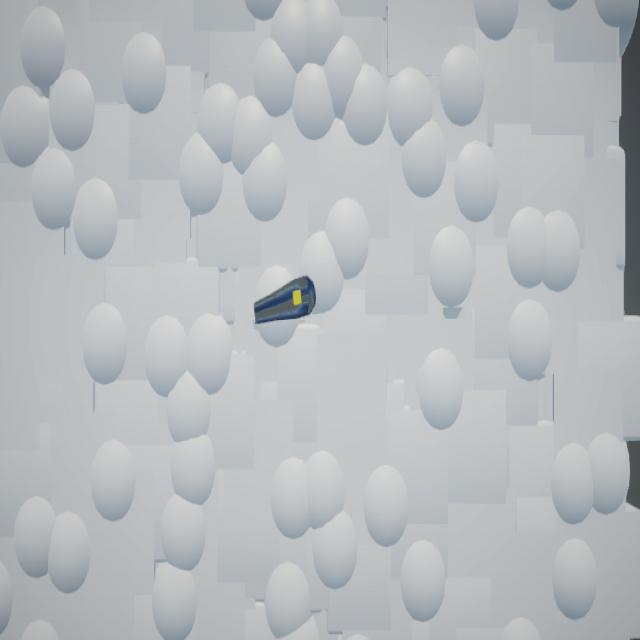handle_knife: (254, 276, 317, 326)
